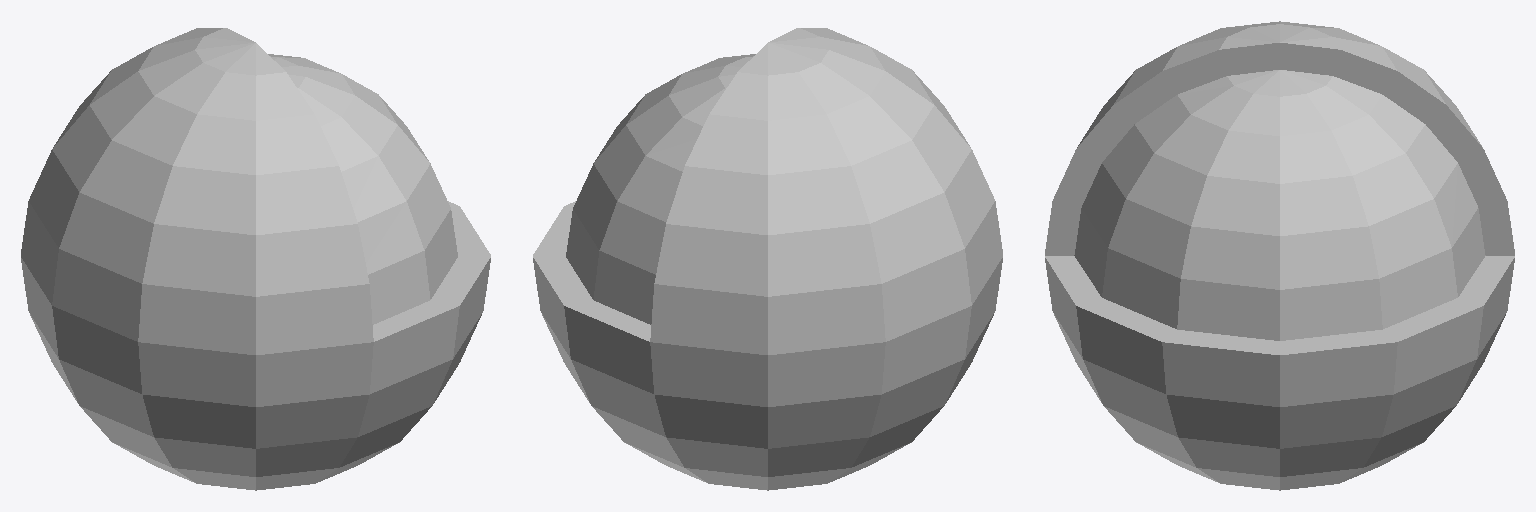
Rendered from Lysosome.obj.
3 renders of one model, left to right at view 1: azimuth 30°, elevation 25°; view 2: azimuth 150°, elevation 25°; view 3: azimuth 270°, elevation 25°, orthographic.
Parts seen in each view (by area): view 1: Membrane Lysosome Cell, Lysosome Cell Hydrolytic_Enzyme; view 2: Membrane Lysosome Cell, Lysosome Cell Hydrolytic_Enzyme; view 3: Lysosome Cell Hydrolytic_Enzyme, Membrane Lysosome Cell.
Part boxes in pixels (x1,y1,x2,y2): Membrane Lysosome Cell: (21,28,490,490); Lysosome Cell Hydrolytic_Enzyme: (268,54,457,324); Membrane Lysosome Cell: (533,28,1002,490); Lysosome Cell Hydrolytic_Enzyme: (566,54,755,324); Lysosome Cell Hydrolytic_Enzyme: (1074,70,1485,340); Membrane Lysosome Cell: (1045,21,1514,490).
Bounding box in the file's own units: 10 × 10 × 10.